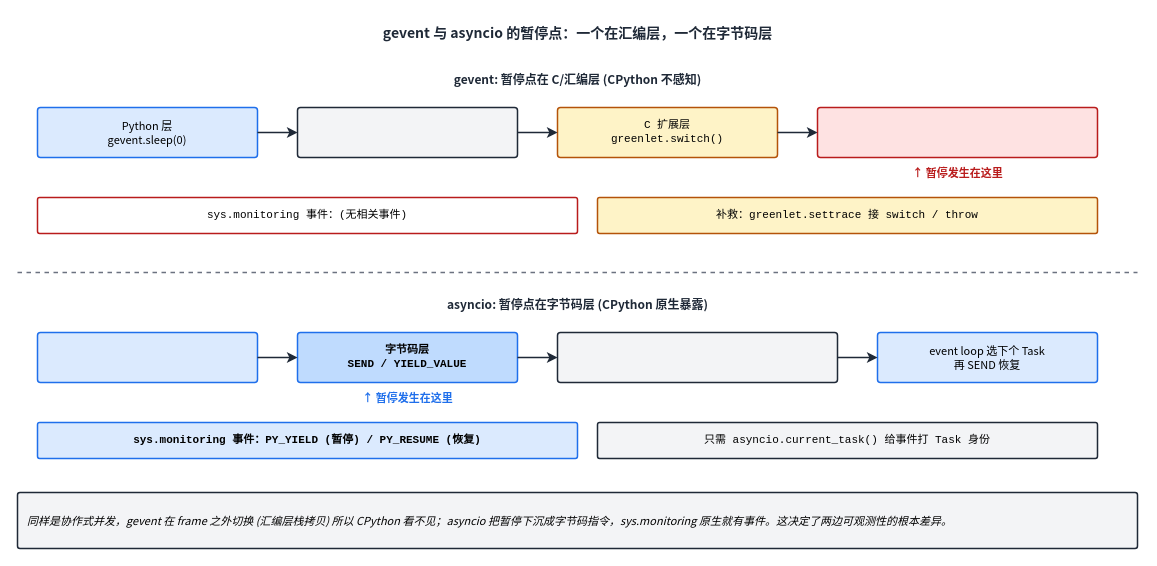
This 1157x566 diagram has some shape labels left out. Here are the shapes that lost their labels. From the top down, the centre of each, then its label:
At (x=407, y=132): "字节码层 CALL gevent.sleep".
At (x=957, y=132): "汇编层 slp_switch: memcpy 栈".
At (x=147, y=357): "Python 层 await asyncio.sleep(0)".
At (x=697, y=357): "frame 仍存活 gen_frame_state = SUSPENDED".
